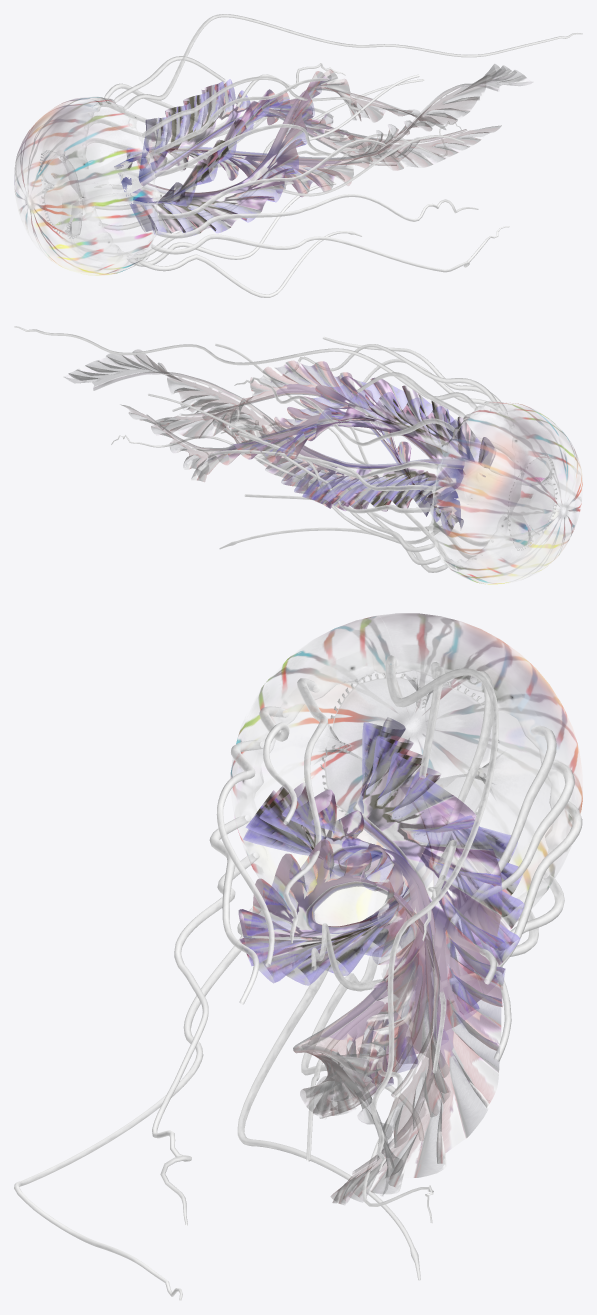
3 renders of one model, top to bottom at view 1: azimuth 30°, elevation 25°; view 2: azimuth 150°, elevation 25°; view 3: azimuth 270°, elevation 25°, orthographic. The views are drawn at different scales.
Visible parts, largest first — view 1: Object_2; view 2: Object_2; view 3: Object_2.
Part boxes in pixels (left/top/right/bottom): Object_2: left=14, top=14, right=582, bottom=297; Object_2: left=14, top=326, right=582, bottom=584; Object_2: left=14, top=613, right=582, bottom=1300.
Size of the model in its own units: 0.5 by 0.2107 by 0.2283.
Materials: 1 (1 with a texture image).
